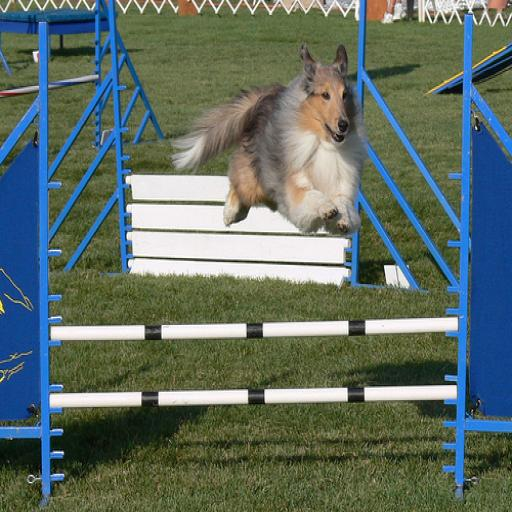dog_face: (296, 45, 354, 145)
